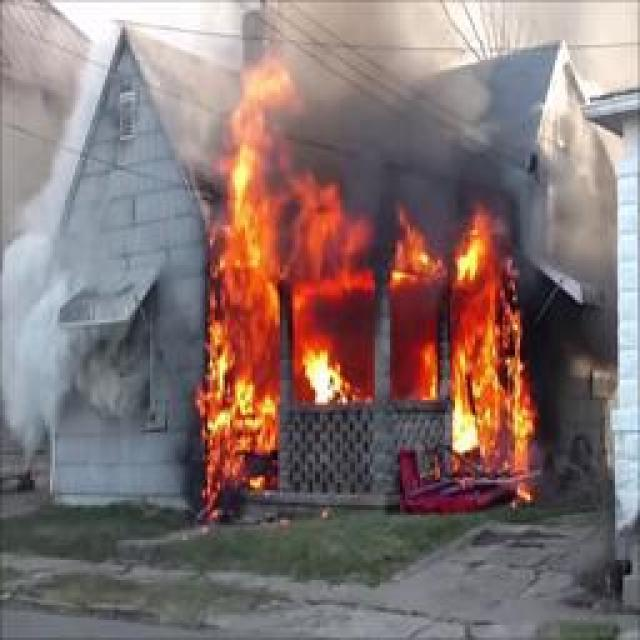Fire: (212, 67, 374, 426), (449, 204, 534, 475), (392, 212, 443, 284), (304, 350, 348, 403)
Smoke: (308, 19, 490, 180)
